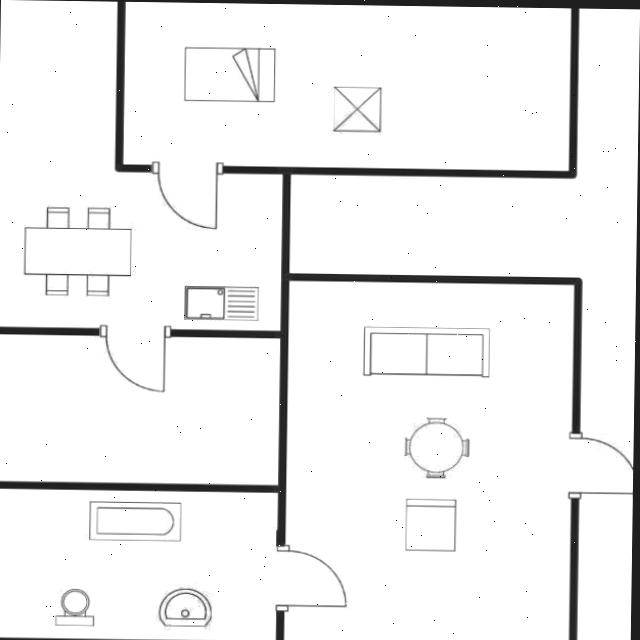room: (284, 282, 573, 640), (0, 0, 284, 331), (123, 2, 570, 171), (0, 488, 277, 640)
